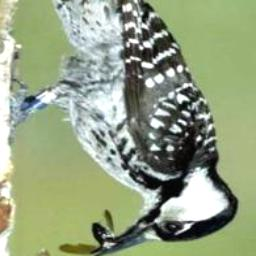Woodpecker: (7, 0, 236, 256)
